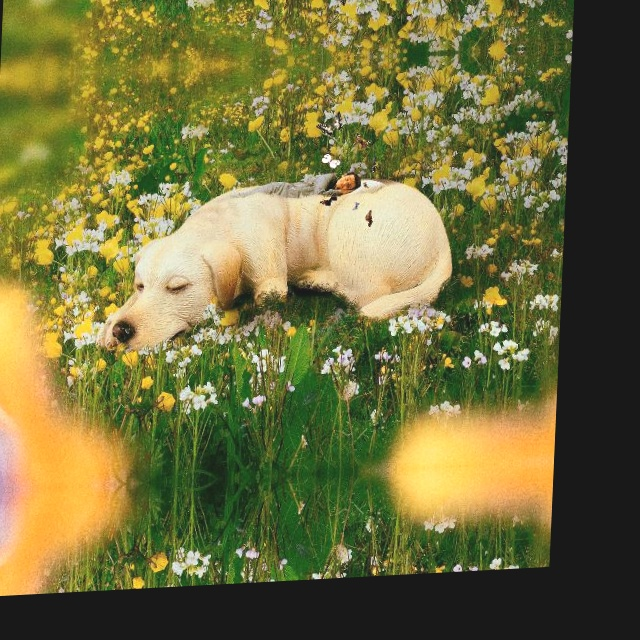dog: (84, 219, 247, 360)
